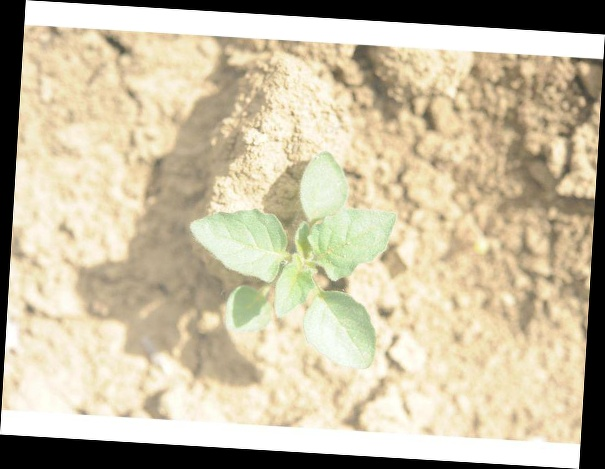nightshade: (188, 145, 396, 364)
